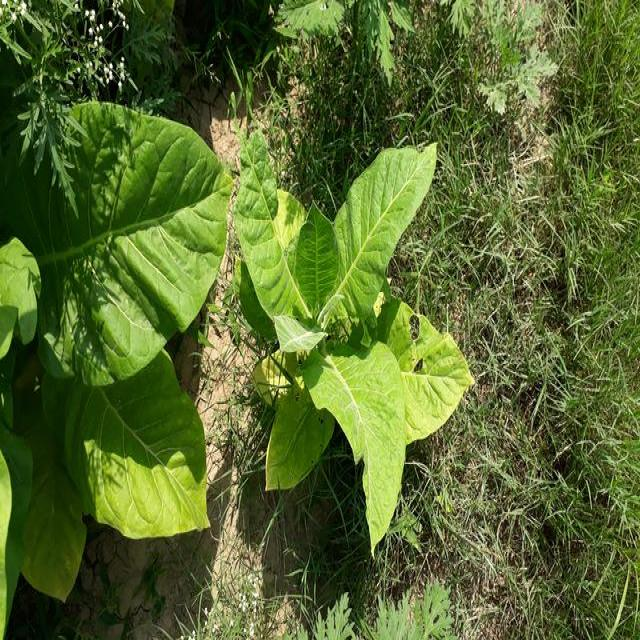crop: (0, 95, 229, 604), (237, 111, 472, 539)
